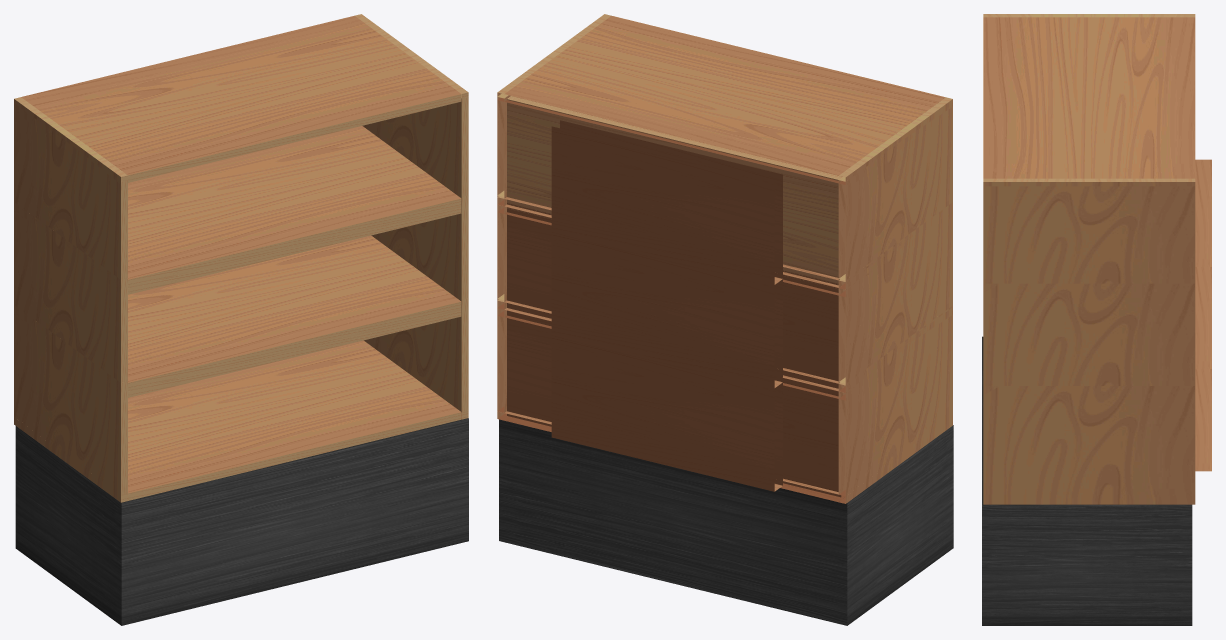
Rendered from layout_3_shelves_simple_open_on_pad.fbx.
3 views of the same model, side by side, from view 1: azimuth 30°, elevation 25°; view 2: azimuth 150°, elevation 25°; view 3: azimuth 270°, elevation 25° (orthographic).
Parts seen in each view (by area): view 1: Decoration, Shelf-TM-00 2, Shelf-TM-00 1, Shelf-BM-00, Shelf-TM-00, Shelf-CL-01, Shelf-CL-01 1, Shelf-CL-01 2, Shelf-CR-01 2, Shelf-CR-01, Shelf-CR-01 1, Shelf-BM-00 1 (+4 smaller); view 2: Decoration, Shelf-TM-00 2, Shelf-Back-00 (1) 2, Shelf-Back-00 (1), Shelf-Back-00 (1) 1, Shelf-Back-00 2, Shelf-CL-01, Shelf-CL-01 1, Shelf-CL-01 2, Shelf-Back-00, Shelf-Back-00 1, Shelf-CL-00 (1) 2 (+8 smaller); view 3: Shelf-TM-00 2, Decoration, Shelf-CR-01, Shelf-CR-01 1, Shelf-CR-01 2, Shelf-CR-00 (1) 2, Shelf-Back-00 (1) 2, Shelf-Back-00 (1), Shelf-Back-00 (1) 1, Shelf-CR-00, Shelf-CL-00 (1) 2.
Boxes of the visible parts, left/top/right/bottom form: Decoration: left=15, top=418, right=468, bottom=625; Shelf-TM-00 2: left=21, top=15, right=461, bottom=182; Shelf-TM-00 1: left=128, top=126, right=461, bottom=287; Shelf-BM-00: left=128, top=340, right=461, bottom=500; Shelf-TM-00: left=128, top=235, right=461, bottom=390; Shelf-CL-01: left=14, top=305, right=127, bottom=494; Shelf-CL-01 1: left=14, top=202, right=127, bottom=382; Shelf-CL-01 2: left=14, top=103, right=127, bottom=279; Shelf-CR-01 2: left=362, top=94, right=468, bottom=205; Shelf-CR-01: left=364, top=298, right=468, bottom=411; Shelf-CR-01 1: left=371, top=195, right=468, bottom=299; Shelf-BM-00 1: left=128, top=309, right=461, bottom=397; Decoration: left=499, top=419, right=953, bottom=625; Shelf-TM-00 2: left=504, top=16, right=945, bottom=183; Shelf-Back-00 (1) 2: left=551, top=120, right=782, bottom=284; Shelf-Back-00 (1): left=551, top=334, right=782, bottom=491; Shelf-Back-00 (1) 1: left=551, top=230, right=782, bottom=387; Shelf-Back-00 2: left=507, top=96, right=842, bottom=289; Shelf-CL-01: left=838, top=306, right=952, bottom=496; Shelf-CL-01 1: left=838, top=202, right=952, bottom=392; Shelf-CL-01 2: left=838, top=107, right=952, bottom=289; Shelf-Back-00: left=507, top=312, right=841, bottom=497; Shelf-Back-00 1: left=507, top=203, right=838, bottom=387; Shelf-CL-00 (1) 2: left=839, top=97, right=952, bottom=184; Shelf-TM-00 2: left=983, top=17, right=1195, bottom=178; Decoration: left=982, top=336, right=1192, bottom=625; Shelf-CR-01: left=983, top=386, right=1195, bottom=496; Shelf-CR-01 1: left=983, top=283, right=1195, bottom=394; Shelf-CR-01 2: left=983, top=186, right=1195, bottom=291; Shelf-CR-00 (1) 2: left=983, top=178, right=1195, bottom=186; Shelf-Back-00 (1) 2: left=1195, top=159, right=1211, bottom=266; Shelf-Back-00 (1): left=1195, top=369, right=1211, bottom=471; Shelf-Back-00 (1) 1: left=1195, top=267, right=1211, bottom=369; Shelf-CR-00: left=983, top=497, right=1195, bottom=504; Shelf-CL-00 (1) 2: left=983, top=14, right=1195, bottom=17.
Bounding box in the file's own units: 150 × 185 × 86.72.
